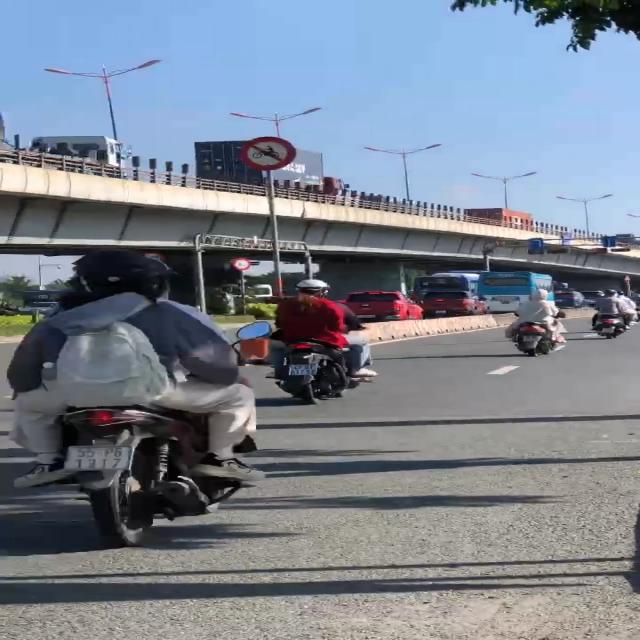Bien bao cam xe may: (234, 134, 304, 173)
